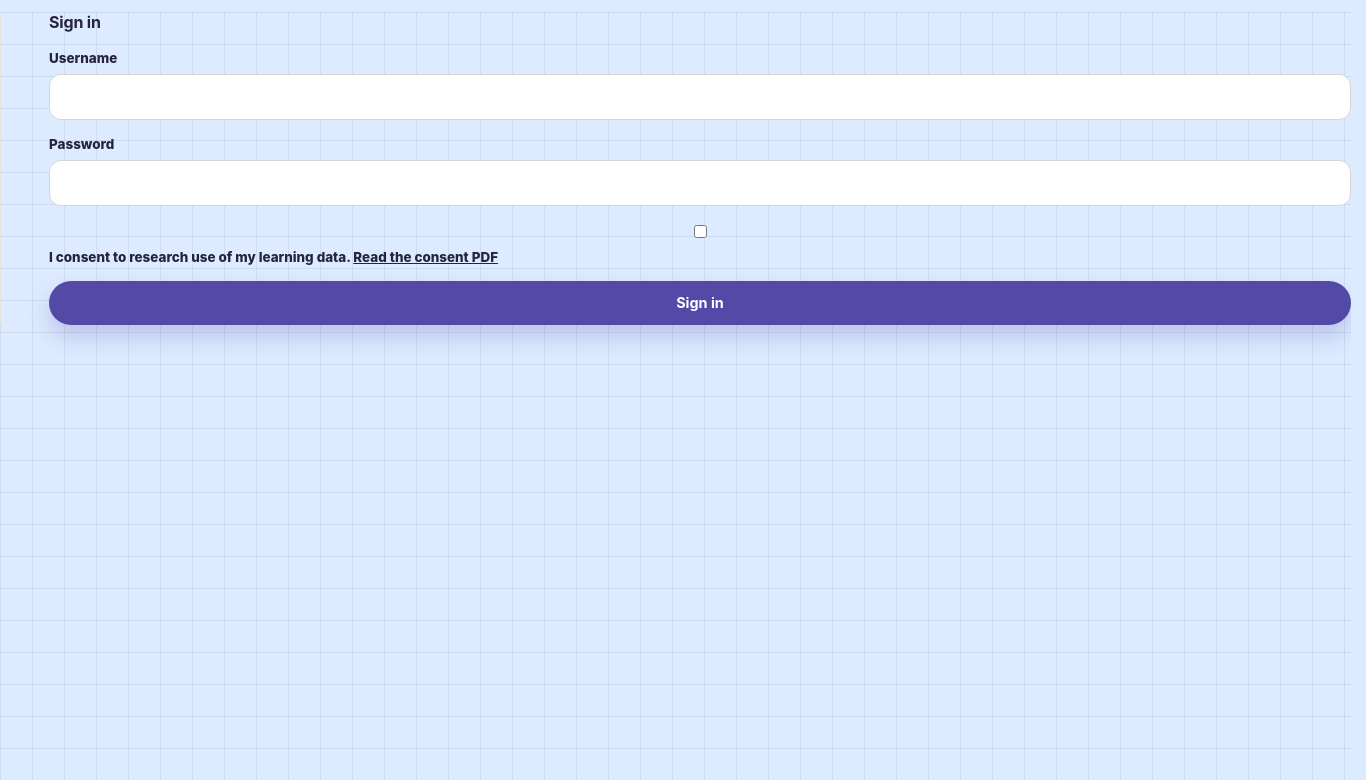
Scenario: login form validation › names the missing username again after its message was closed (#141)
In the password field labelled "Password": (700, 183) [49, 160, 1351, 206], type "secret"
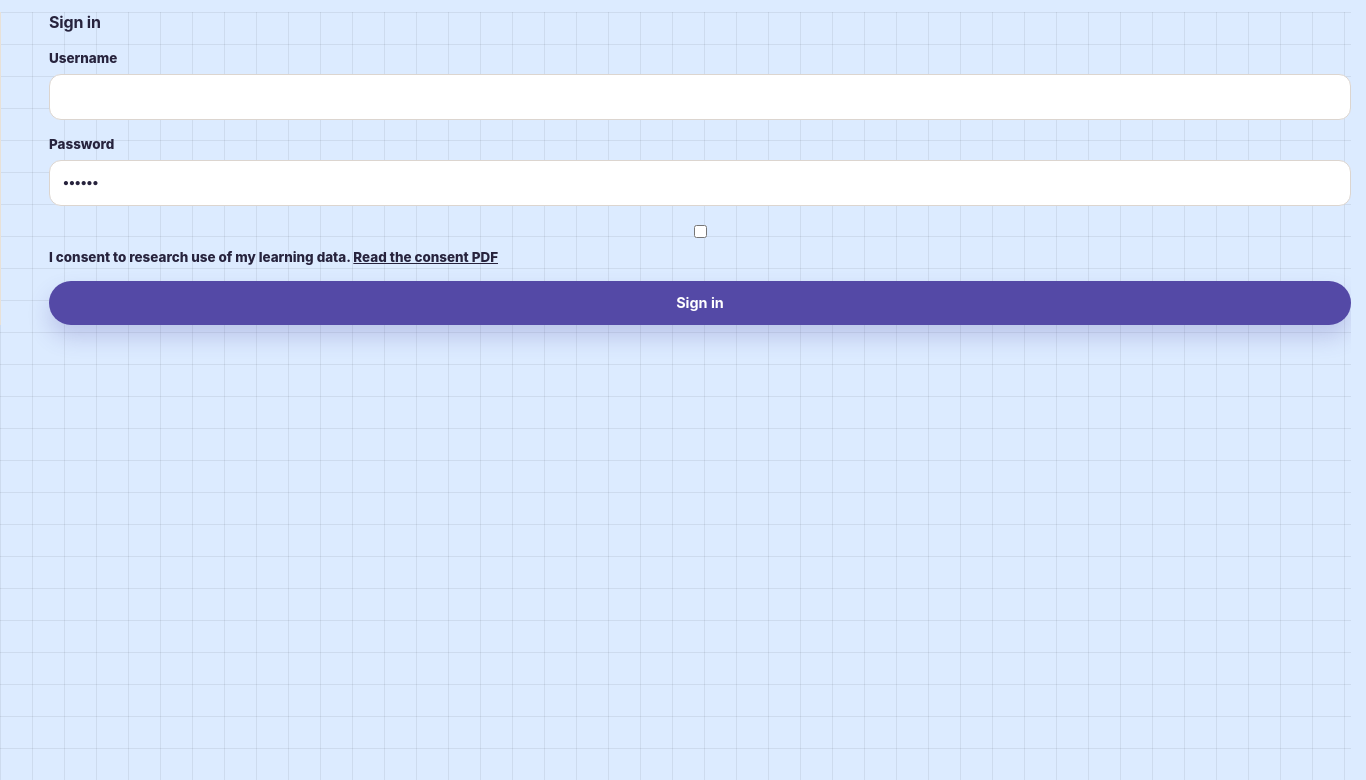
Submit the form labelled "Password", box [49, 50, 1351, 325]
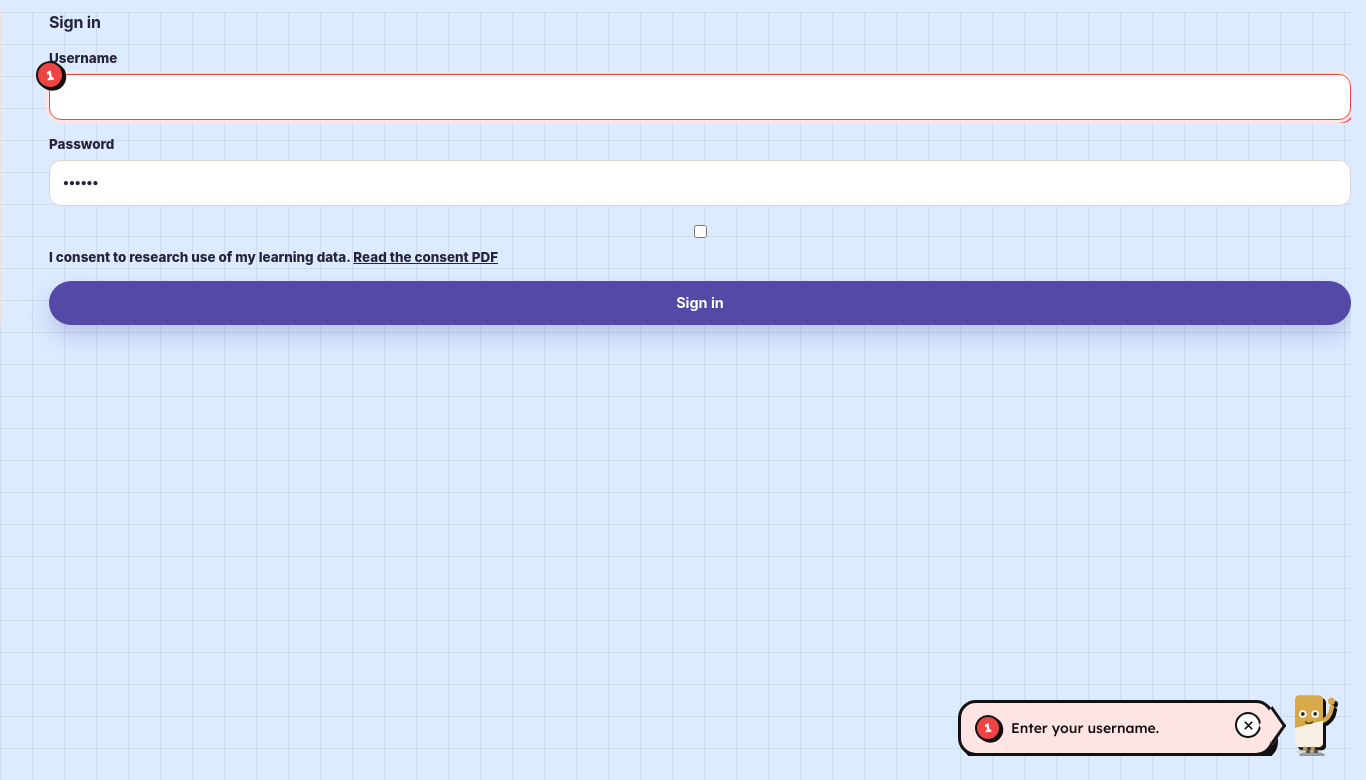
Result: the text "Enter your username." is shown at [1011, 719, 1159, 737]
Click the button named "Dismiss": (1248, 725) [1235, 712, 1261, 738]
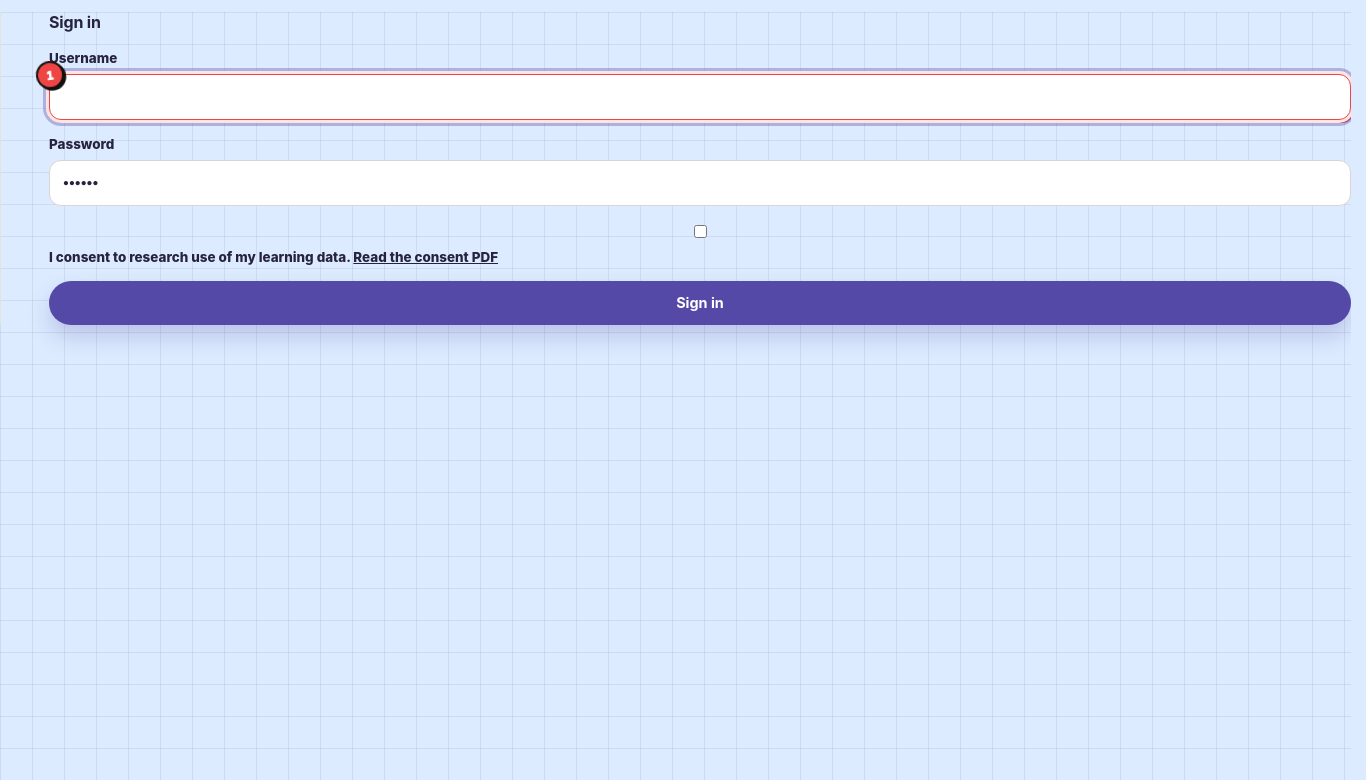
Result: the text "Enter your username." is gone
Submit the form labelled "Password", box [49, 50, 1351, 325]
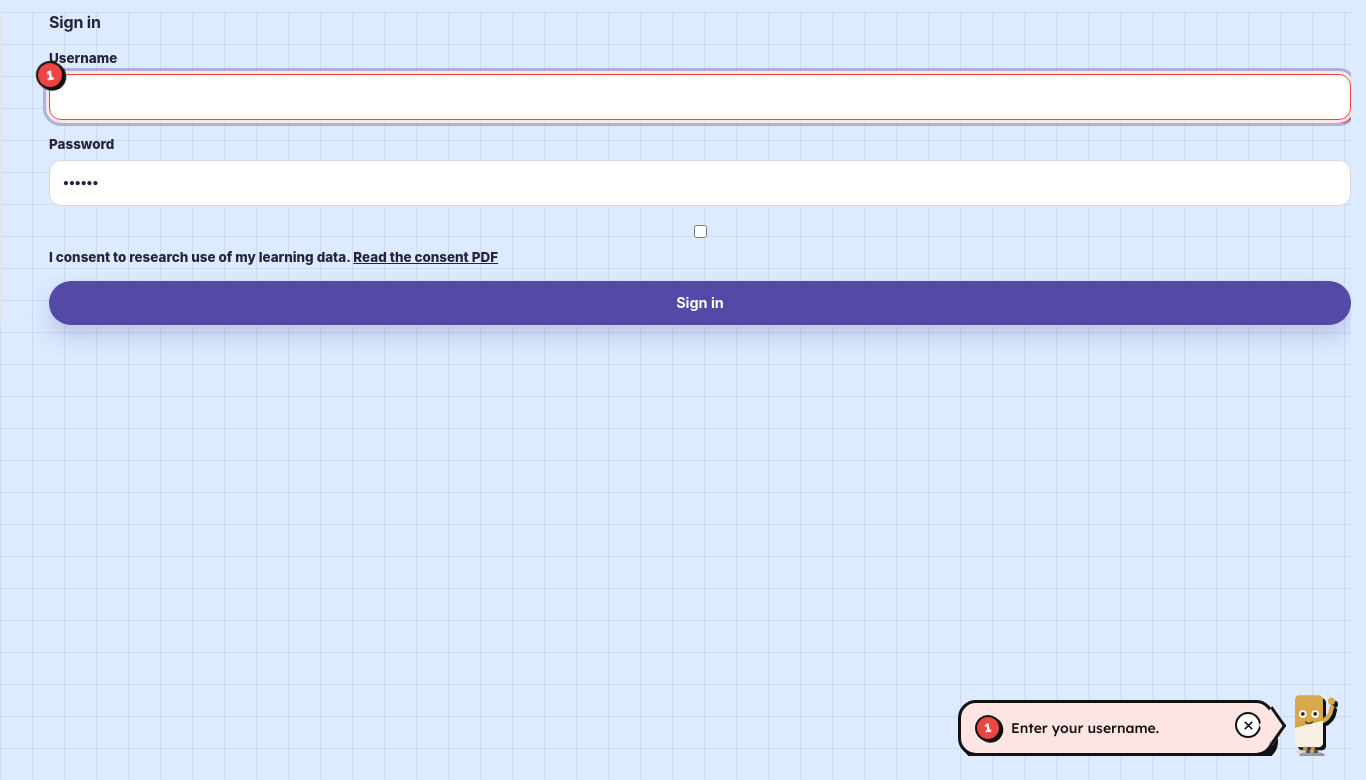
Result: the text "Enter your username." is shown at [1011, 719, 1159, 737]
